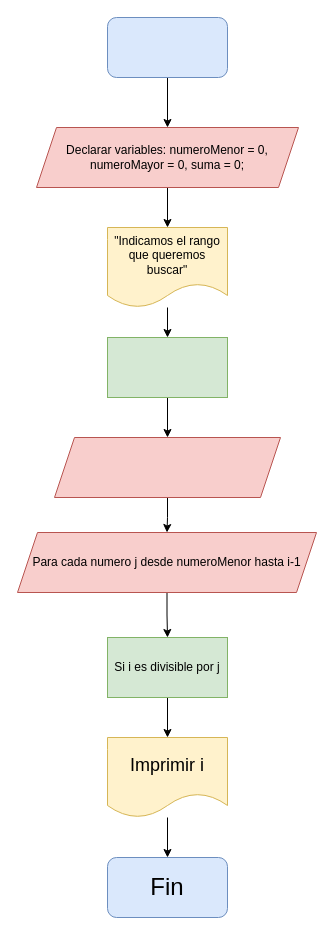
Image size: 334x935. Some labels were removed from this diagram. Here are the shapes that lost their labels. From the top down, the centre of each, then its label:
point (167, 47): Inicio
point (167, 367): Leer variables introducidas por usuario
point (167, 467): Inicializar suma como 0 para cada numero i
